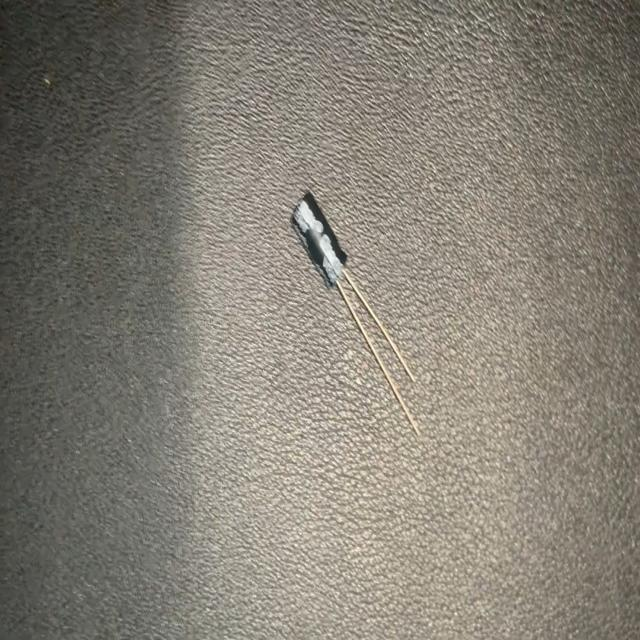capacitor: (290, 190, 422, 437)
